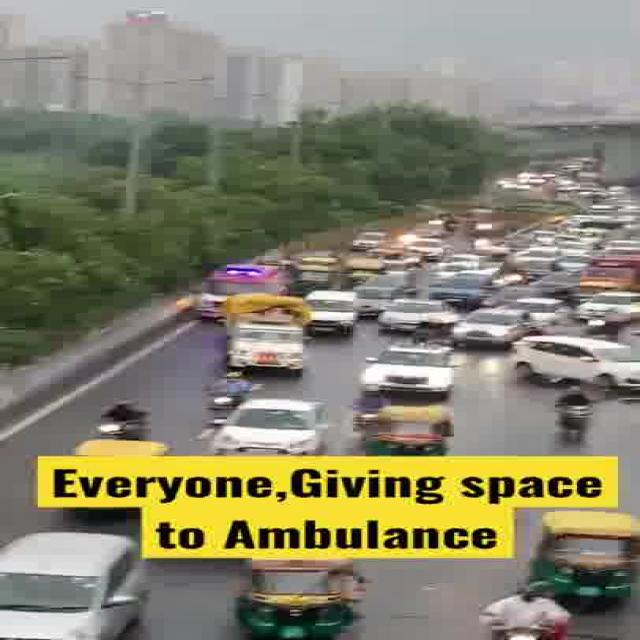ambulance: (183, 261, 308, 299)
